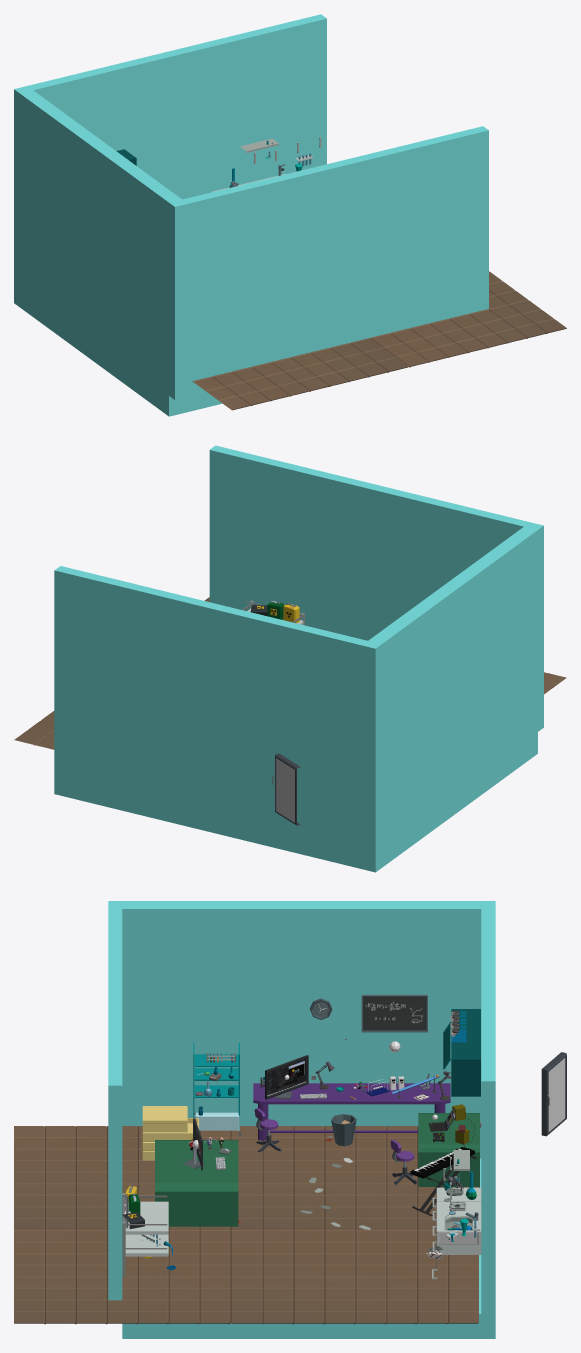
File: laboratorioLimpieza.glb
3 views of the same model, one above another, from view 1: azimuth 30°, elevation 25°; view 2: azimuth 150°, elevation 25°; view 3: azimuth 270°, elevation 25° (orthographic). The views are drawn at different scales.
Parts seen in each view (by area): view 1: floor_and_walls, tile.001; view 2: floor_and_walls, tile.001, door.001; view 3: floor_and_walls, tile.001, table1.001, cane, table1, frame .001, shelf, legs1, cane2, bottom_shelf1, PC, bottom_shelf2 (+5 smaller).
Boxes of the visible parts, x1,y1,x2,y2 form: floor_and_walls: (14,14,488,416); tile.001: (192,271,566,410); floor_and_walls: (54,445,543,872); tile.001: (14,597,566,749); door.001: (276,758,294,822); floor_and_walls: (108,901,495,1338); tile.001: (14,1126,478,1324); table1.001: (155,1140,238,1226); cane: (253,1083,450,1140); table1: (418,1113,479,1187); frame .001: (361,994,427,1032); shelf: (443,1009,480,1096); legs1: (193,1043,241,1136); cane2: (122,1193,168,1277); bottom_shelf1: (142,1106,198,1160); PC: (265,1055,308,1099); bottom_shelf2: (436,1215,481,1269).
Size of what is drawn, in the model's own units: 3.81 by 2.21 by 4.3.
56 materials, 7 textured.
